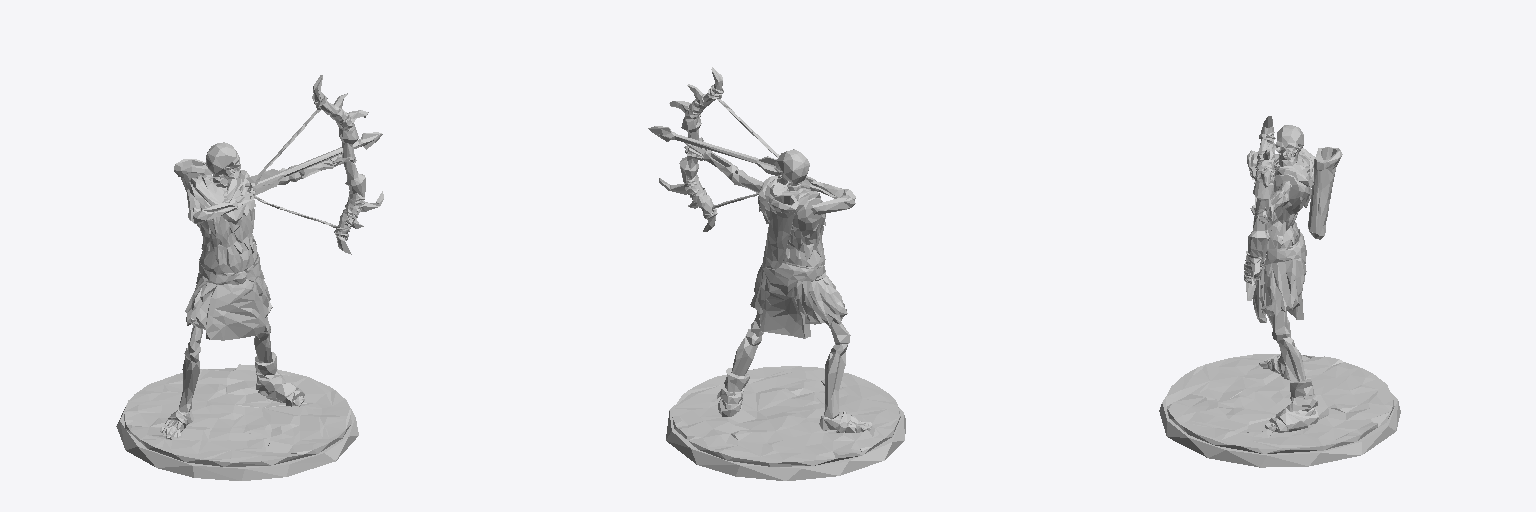
Rendered from skeleton archer v2.obj.
The picture shows the model from 3 angles: view 1: azimuth 30°, elevation 25°; view 2: azimuth 150°, elevation 25°; view 3: azimuth 270°, elevation 25°; orthographic projection.
Visible parts, largest first — view 1: skeleton_archer; view 2: skeleton_archer; view 3: skeleton_archer.
Boxes of the visible parts, <box> form: skeleton_archer: <box>116,75,383,480</box>; skeleton_archer: <box>648,67,905,480</box>; skeleton_archer: <box>1159,116,1400,467</box>.
Bounding box in the file's own units: 0.3836 × 0.5036 × 0.3256.